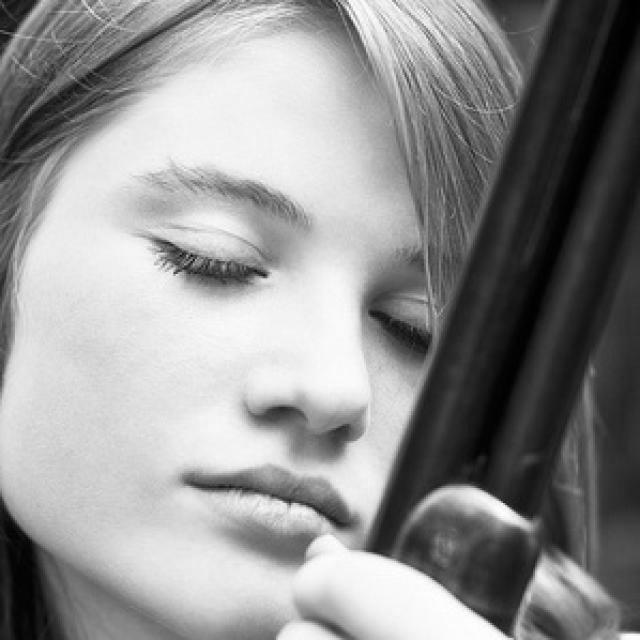real: (28, 152, 468, 632), (123, 217, 442, 378)
